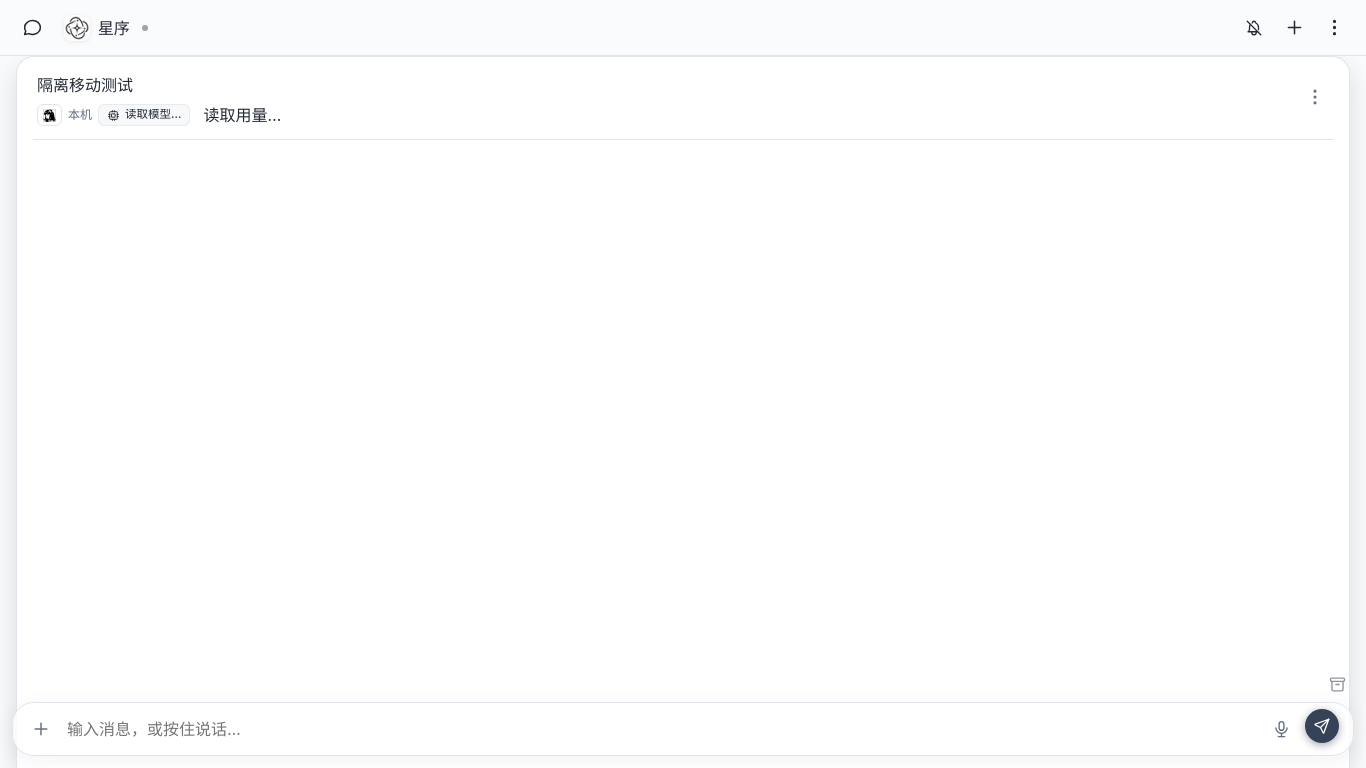
Test: independent mobile composer › opens the current session blackboard from the session menu
What coordinates should you click on to do the following:
click the button named "会话操作"
I would click on:
 (1315, 97)
Its box is [1295,77,1335,117].
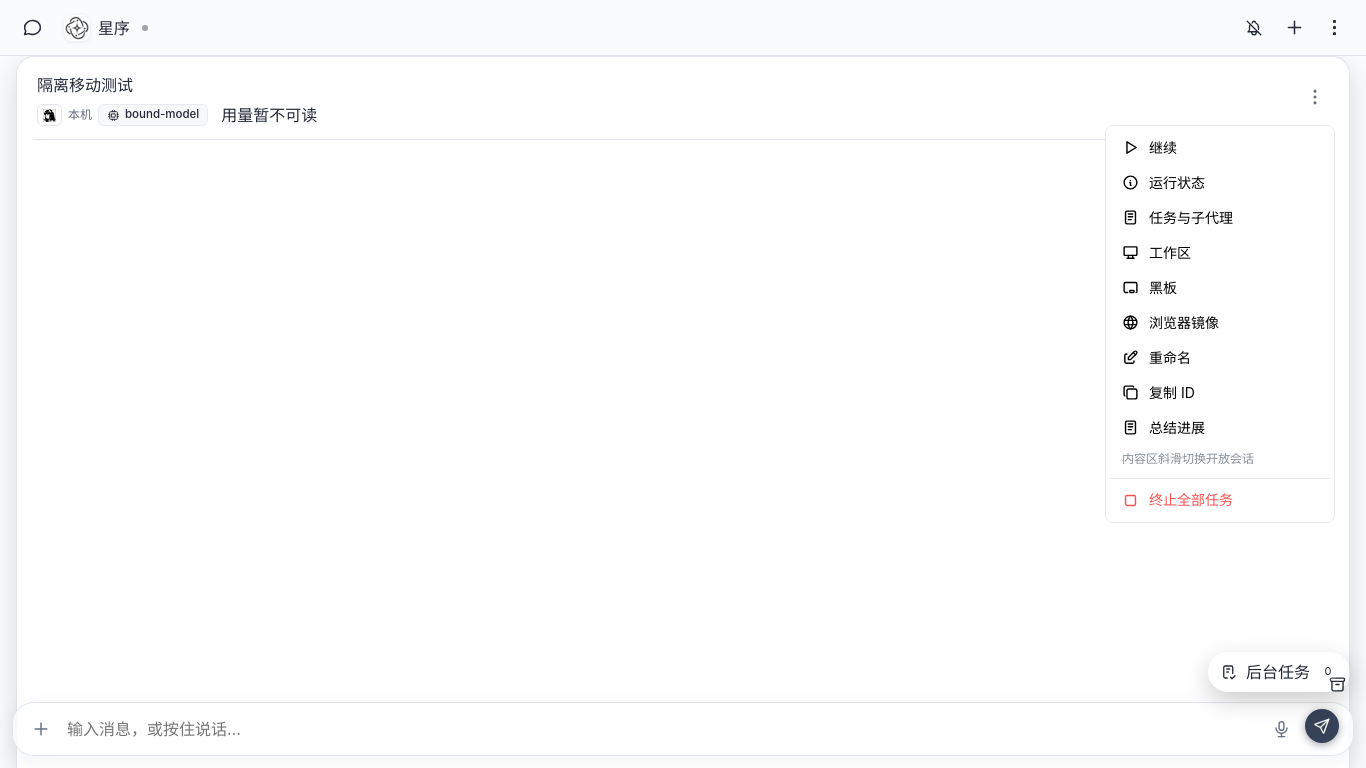
What coordinates should you click on to do the following:
click the menu item "黑板"
I would click on:
 (1220, 288)
Its box is [1110,270,1330,305].
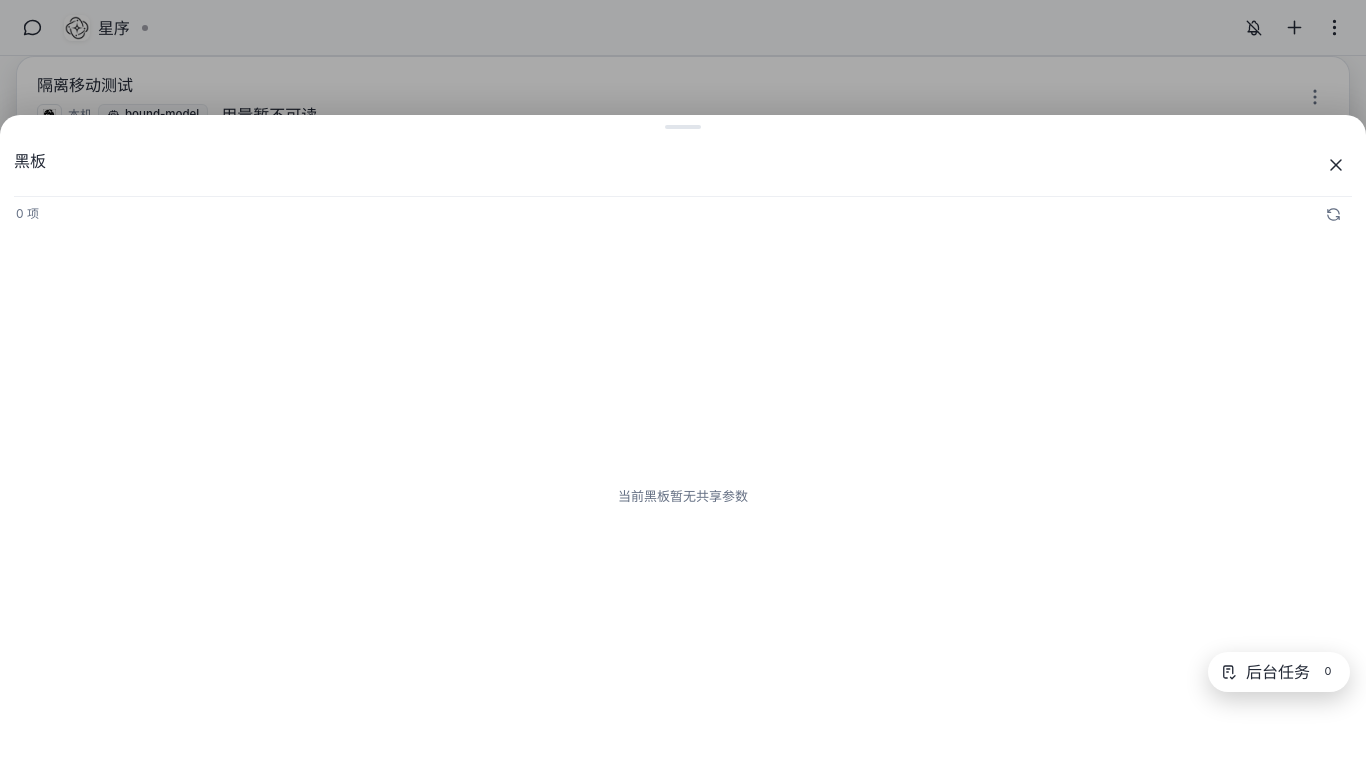
Check: the text "当前黑板暂无共享参数" is shown, box [618,486,748,506]
